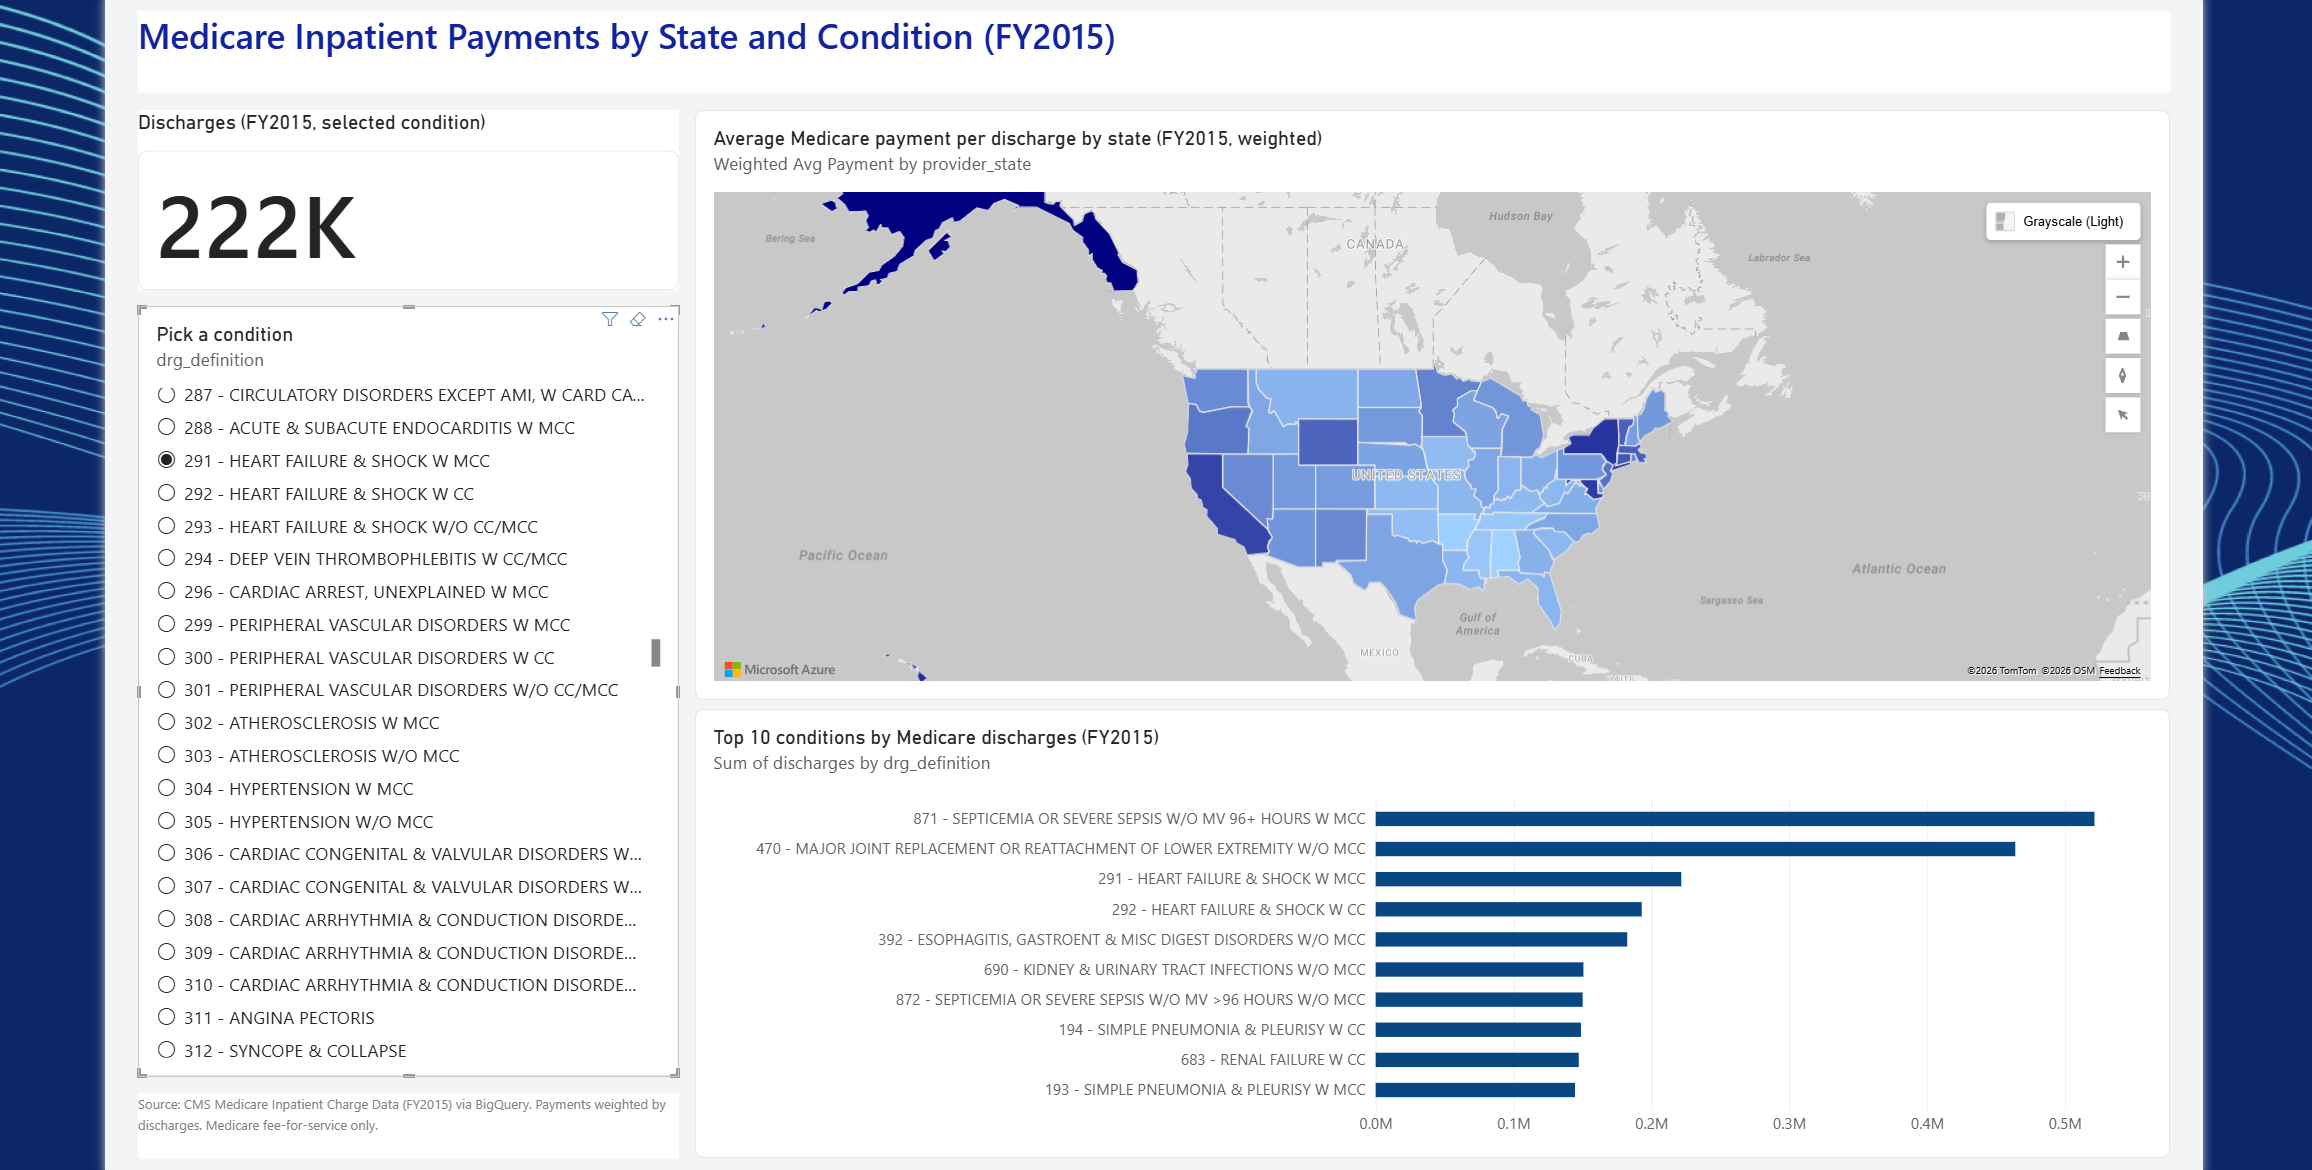

The page's visual inventory and layout, read from the dashboard file:
{"tool":"powerbi","page":{"name":"Page 1","canvas":[1920,1080],"ordinal":0},"visuals":[{"type":"cardVisual","title":"Discharges (FY2015, selected condition)","fields":{"Data":["Sum(state_drg_summary.discharges)"]},"box":[30,105,495,165],"z":0},{"type":"azureMap","title":"Average Medicare payment per discharge by state (FY2015, weighted)","fields":{"Category":["state_drg_summary.provider_state"]},"box":[540,105,1350,540],"z":1000},{"type":"clusteredBarChart","title":"Top 10 conditions by Medicare discharges (FY2015)","fields":{"Category":["state_drg_summary.drg_definition"],"Y":["Sum(state_drg_summary.discharges)"]},"box":[540,653.5,1350,410.9],"z":2000},{"type":"listSlicer","title":"Pick a condition","fields":{"Values":["state_drg_summary.drg_definition"]},"box":[30,285,495,705],"z":3000},{"type":"textbox","box":[30,15,1860,75],"z":4000},{"type":"textbox","box":[30.4,1005.2,494.7,59.9],"z":5000}]}

Visuals, with their boxes on the page's 1920x1080 design canvas (x1, y1, x2, y2). These are canvas units, not pixel positions in the 2312x1170 screenshot, which may show the page scaled, cropped or inside an application window:
"Discharges (FY2015, selected condition)" cardVisual: 30/105/525/270
"Average Medicare payment per discharge by state (FY2015, weighted)" azureMap: 540/105/1890/645
"Top 10 conditions by Medicare discharges (FY2015)" clusteredBarChart: 540/654/1890/1064
"Pick a condition" listSlicer: 30/285/525/990
textbox: 30/15/1890/90
textbox: 30/1005/525/1065
